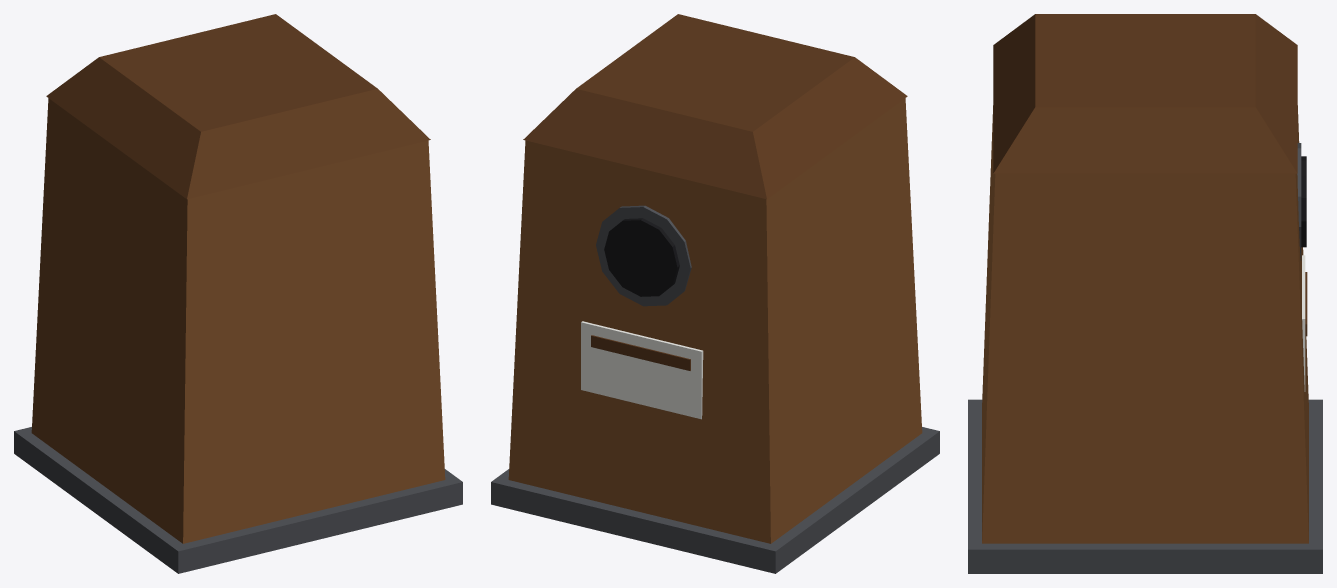
Rendered from Ecoponto_Brown.fbx.
The picture shows the model from 3 angles, left to right: view 1: azimuth 30°, elevation 25°; view 2: azimuth 150°, elevation 25°; view 3: azimuth 270°, elevation 25°; orthographic projection. The views are drawn at different scales.
Parts seen in each view (by area): view 1: Ecoponto_Brown; view 2: Ecoponto_Brown; view 3: Ecoponto_Brown.
Boxes of the visible parts, x1,y1,x2,y2 form: Ecoponto_Brown: (14,14,462,573); Ecoponto_Brown: (491,14,939,573); Ecoponto_Brown: (968,14,1322,573).
Size of the model in its own units: 1.32 by 1.8 by 1.32.
